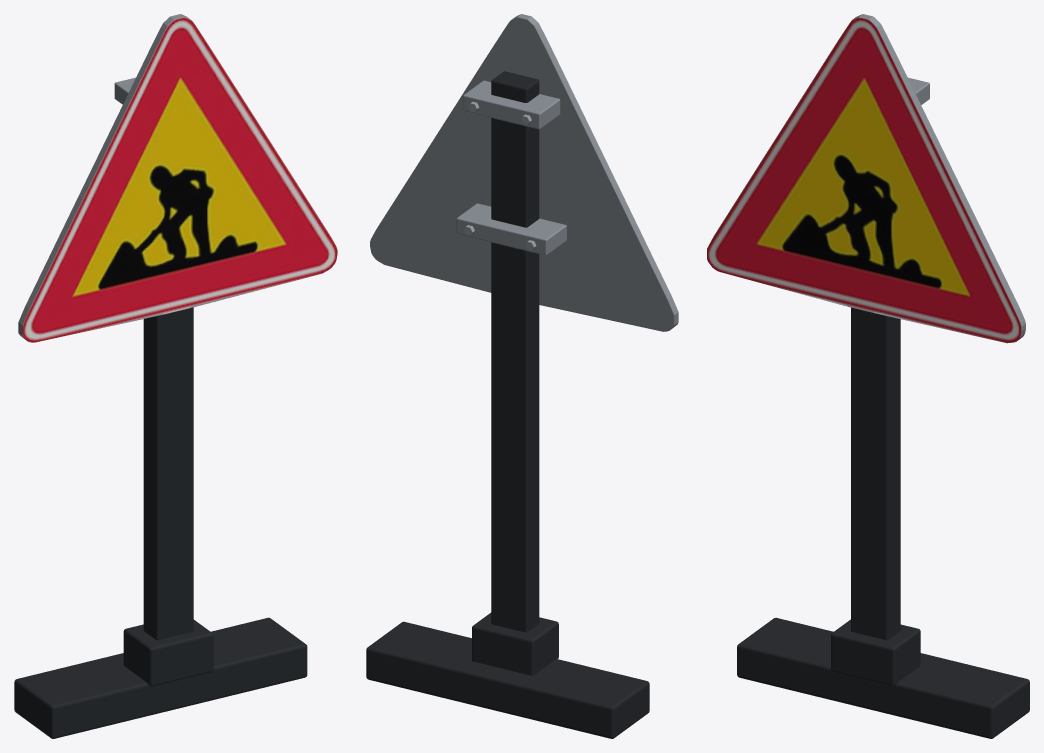
3 renders of one model, left to right at view 1: azimuth 30°, elevation 25°; view 2: azimuth 150°, elevation 25°; view 3: azimuth 330°, elevation 25°, orthographic. The views are drawn at different scales.
Parts seen in each view (by area): view 1: g3, g0, g2; view 2: g0, g2; view 3: g3, g0, g2.
Part boxes in pixels (<box>): g3: <box>22,17,337,342</box>; g0: <box>14,307,307,738</box>; g2: <box>18,14,337,342</box>; g0: <box>366,71,649,738</box>; g2: <box>370,14,678,331</box>; g3: <box>707,17,1021,342</box>; g0: <box>737,307,1029,738</box>; g2: <box>707,14,1025,343</box>.
Bounding box in the file's own units: 0.1179 × 0.0265 × 0.247.
4 materials, 1 textured.
